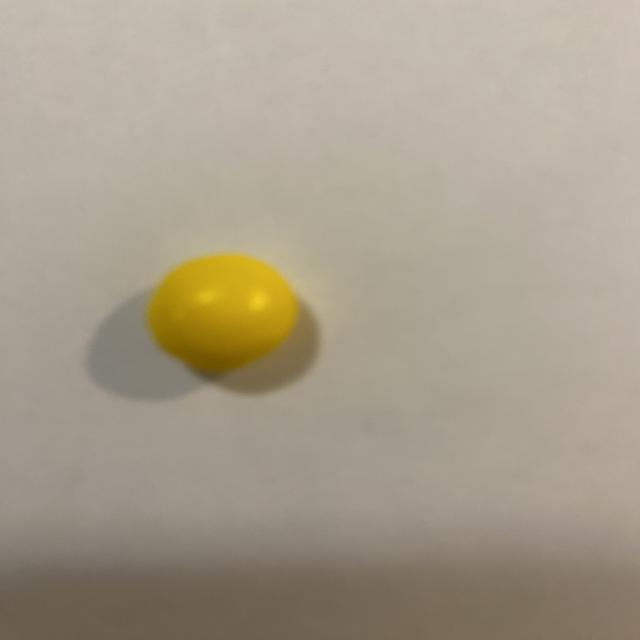smartie: (146, 255, 299, 377)
